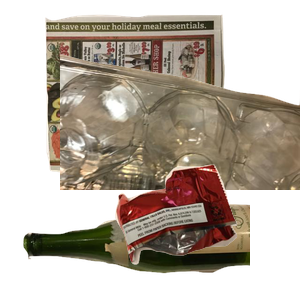glass: (21, 201, 261, 300)
paper: (42, 12, 260, 185)
plastic: (60, 52, 300, 232)
trash: (113, 162, 300, 300)
